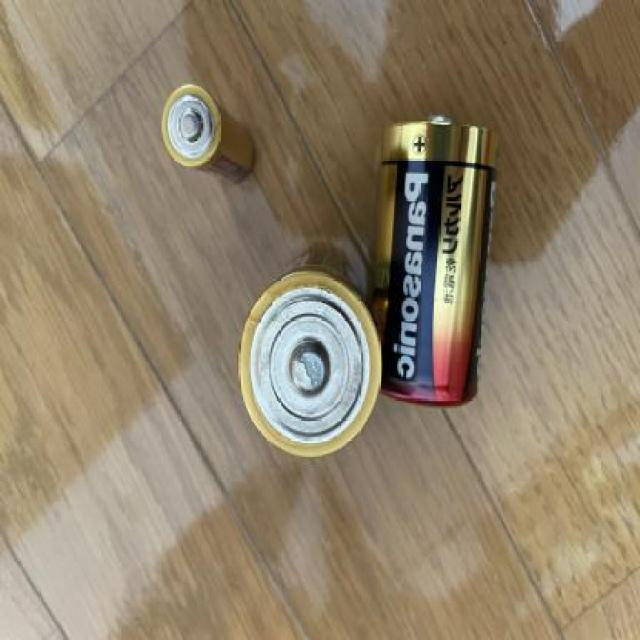hazardous waste: (374, 110, 508, 404), (234, 244, 383, 462), (160, 80, 260, 191)
